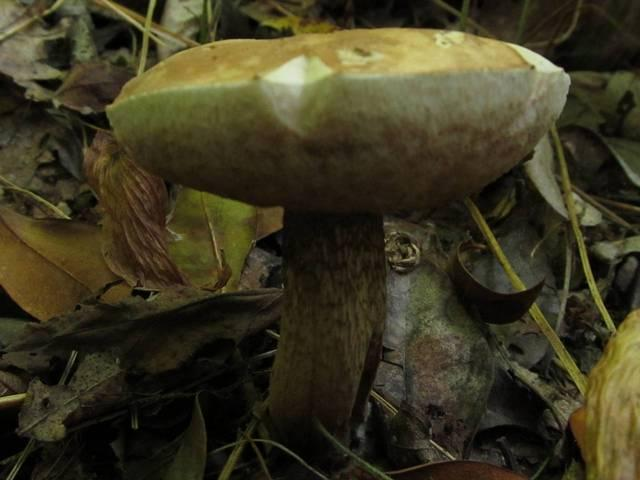Non-edible Mushroom: (102, 25, 571, 462)
